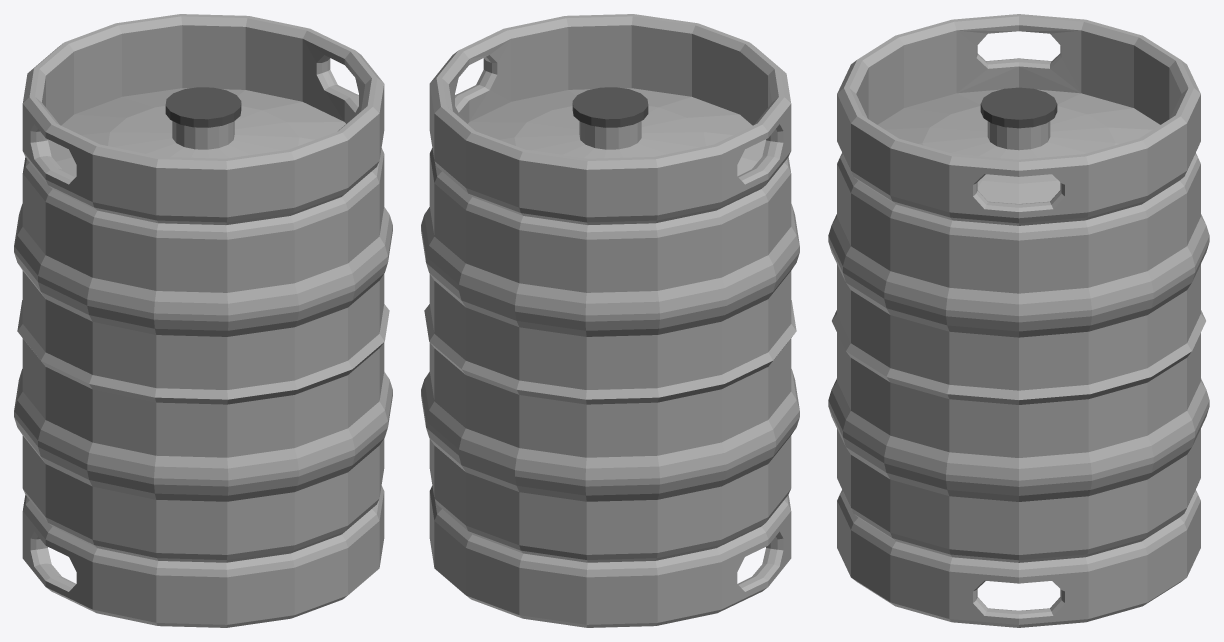
The model's file is 42e8589a-8a2d-4da5-b270-f2a8bfac66f9.glb.
3 views of the same model, side by side, from view 1: azimuth 30°, elevation 25°; view 2: azimuth 150°, elevation 25°; view 3: azimuth 270°, elevation 25° (orthographic).
Parts seen in each view (by area): view 1: Keg_Of_Beer; view 2: Keg_Of_Beer; view 3: Keg_Of_Beer.
Part boxes in pixels (box(x1,y1,x2,y2)): Keg_Of_Beer: box(14, 14, 392, 627); Keg_Of_Beer: box(421, 14, 799, 627); Keg_Of_Beer: box(828, 14, 1209, 627).
Size of the model in its own units: 105 by 141 by 105.
Materials: 1 (1 with a texture image).
